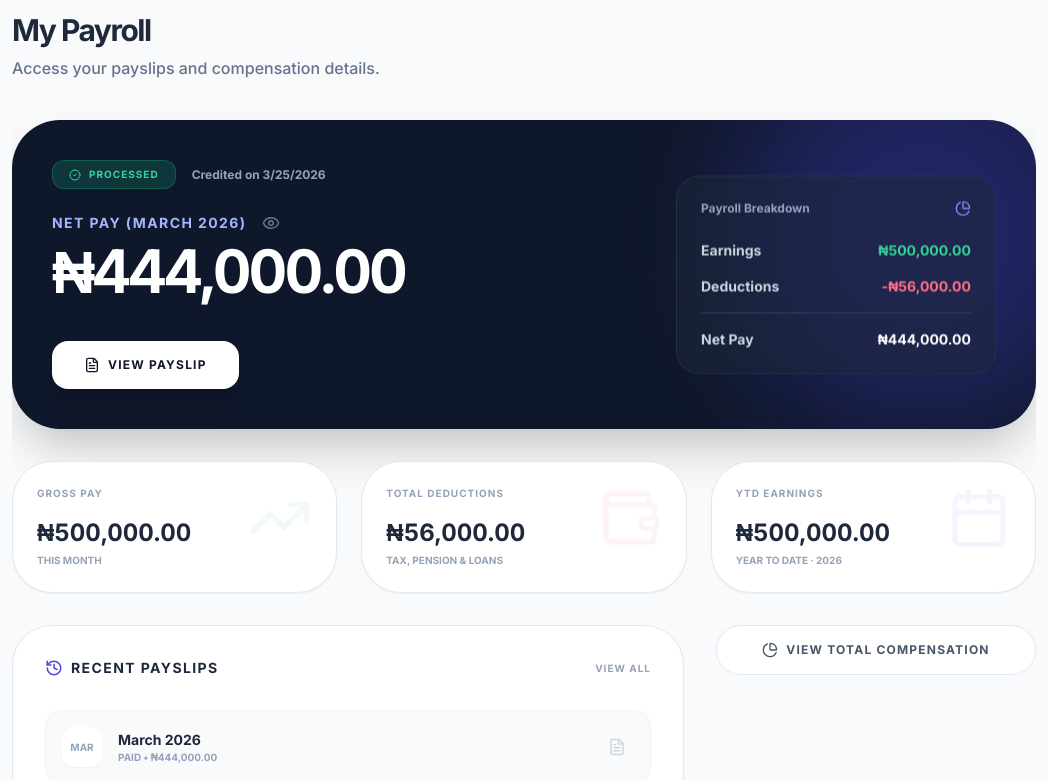
Test: MyPayroll › masks and unmasks the net pay figure via the eye toggle
Check: the heading "₦444,000.00" is shown, box [52,235,405,307]
Click the button with class "lucide-eye" at (272, 223), box [262,214,280,232]
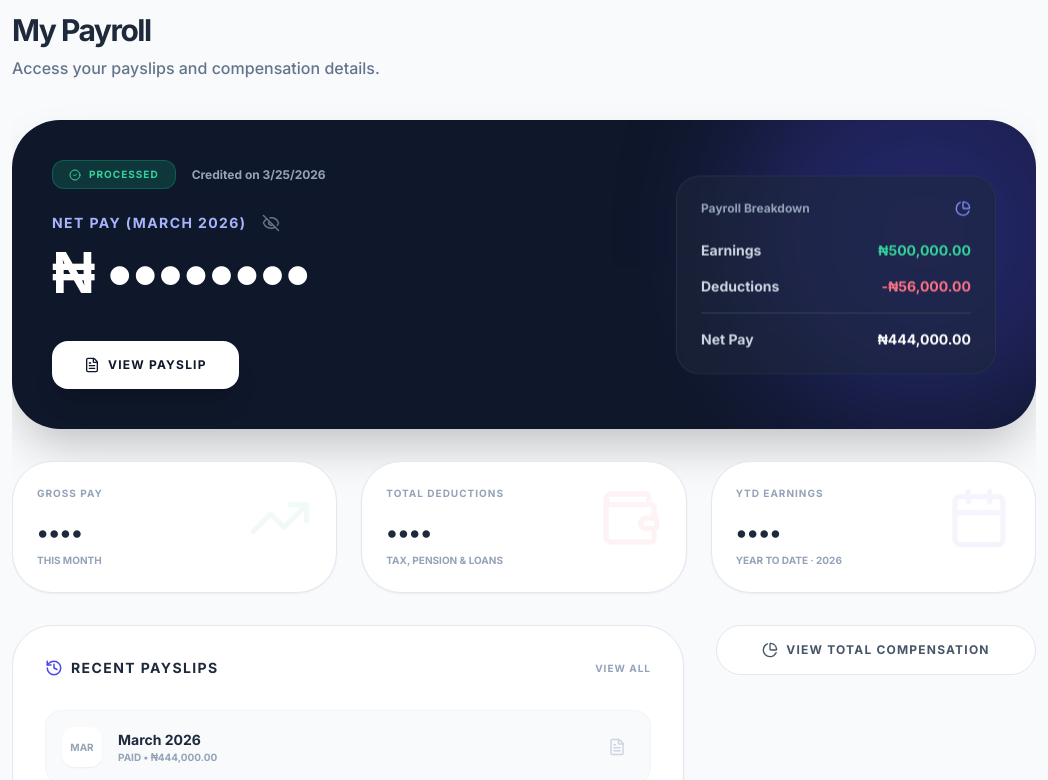
Check: the heading "₦ ••••••••" is shown, box [52,235,309,307]
